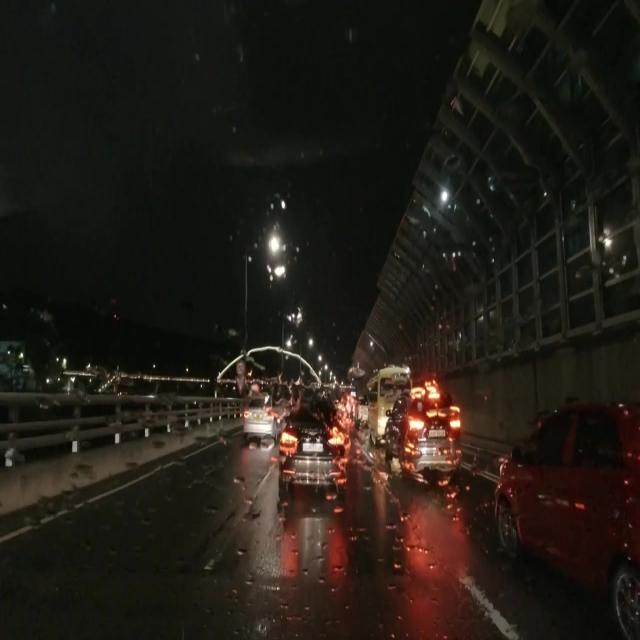Car: (494, 403, 639, 625), (384, 391, 460, 485), (283, 385, 342, 486), (242, 391, 279, 442)
